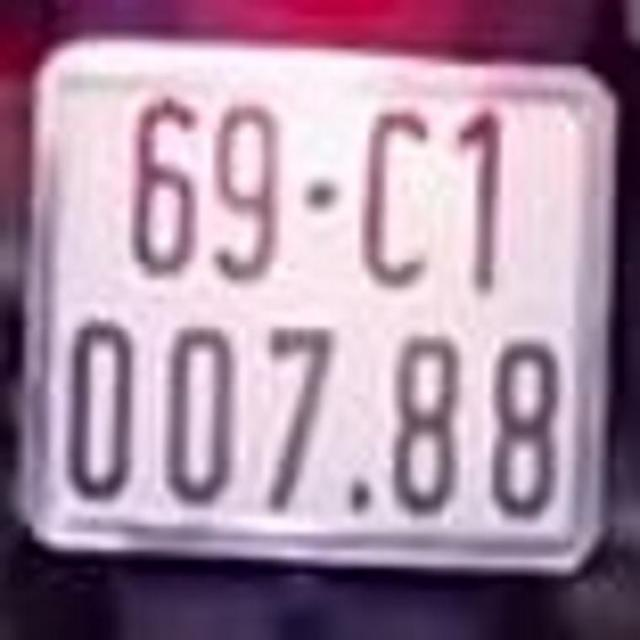0: (164, 310, 238, 508), (66, 308, 136, 501)
1: (448, 91, 531, 295)
6: (122, 76, 202, 287)
7: (261, 310, 340, 520)
8: (384, 312, 466, 524), (488, 306, 567, 525)
9: (205, 81, 286, 289)
C: (347, 84, 439, 294)
